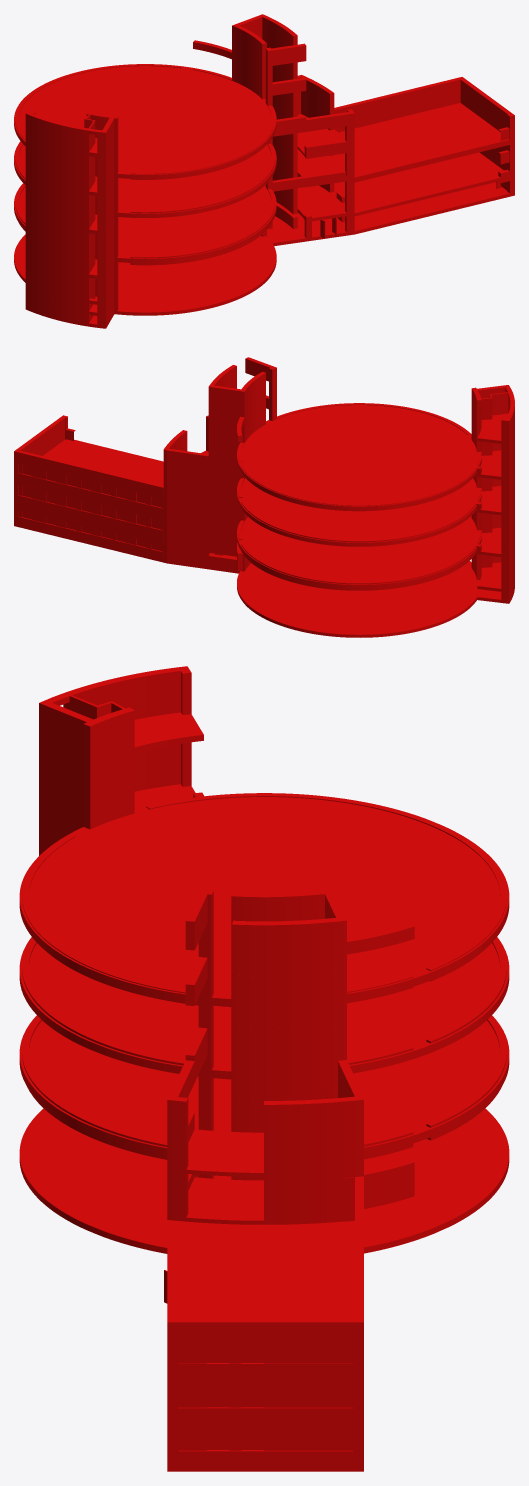
Rendered from zotov-naked.glb.
The picture shows the model from 3 angles, top to bottom: view 1: azimuth 30°, elevation 25°; view 2: azimuth 150°, elevation 25°; view 3: azimuth 270°, elevation 25°; orthographic projection. The views are drawn at different scales.
Visible parts, largest first — view 1: 1 etazh; view 2: 1 etazh; view 3: 1 etazh.
Boxes of the visible parts, x1=… form: 1 etazh: x1=14, y1=14, x2=514, y2=328; 1 etazh: x1=14, y1=357, x2=514, y2=637; 1 etazh: x1=19, y1=666, x2=509, y2=1471.
Size of the model in its own units: 1.58 by 0.6125 by 0.744.
